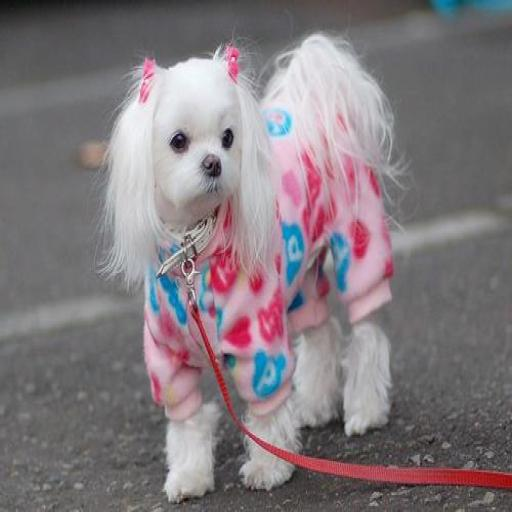dog_face: (108, 60, 263, 250)
